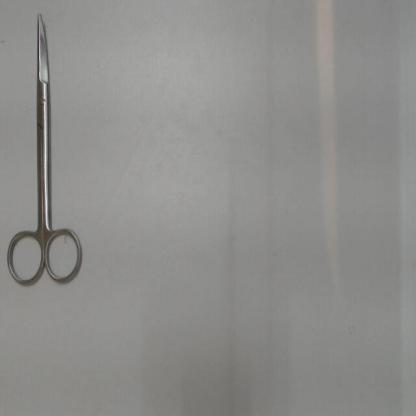Curved Mayo Scissors: (1, 6, 87, 295)
